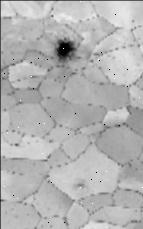good_void: (53, 36, 82, 63), (70, 176, 91, 193)
